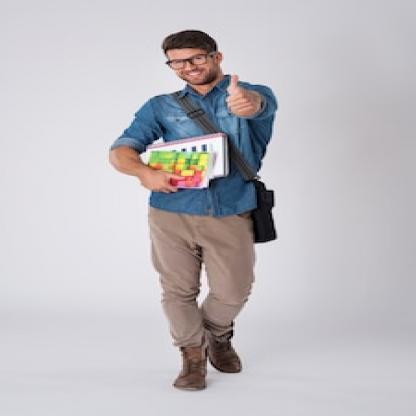thumb_up: (215, 73, 266, 120)
